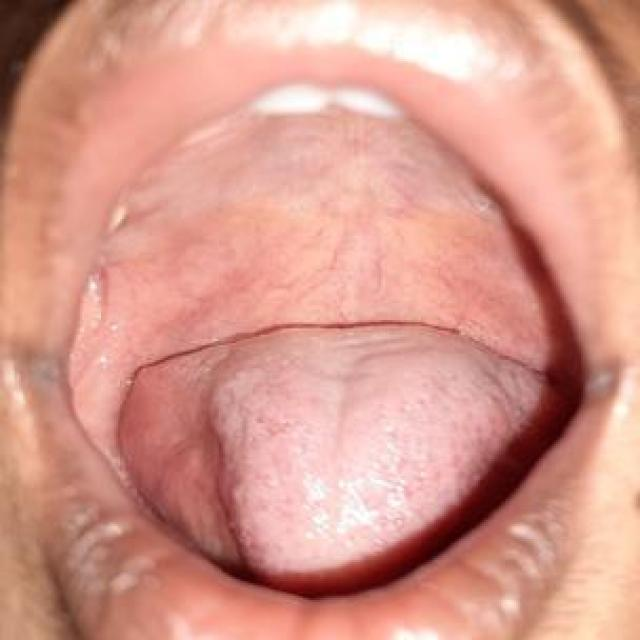processing_area: (70, 103, 549, 570)
